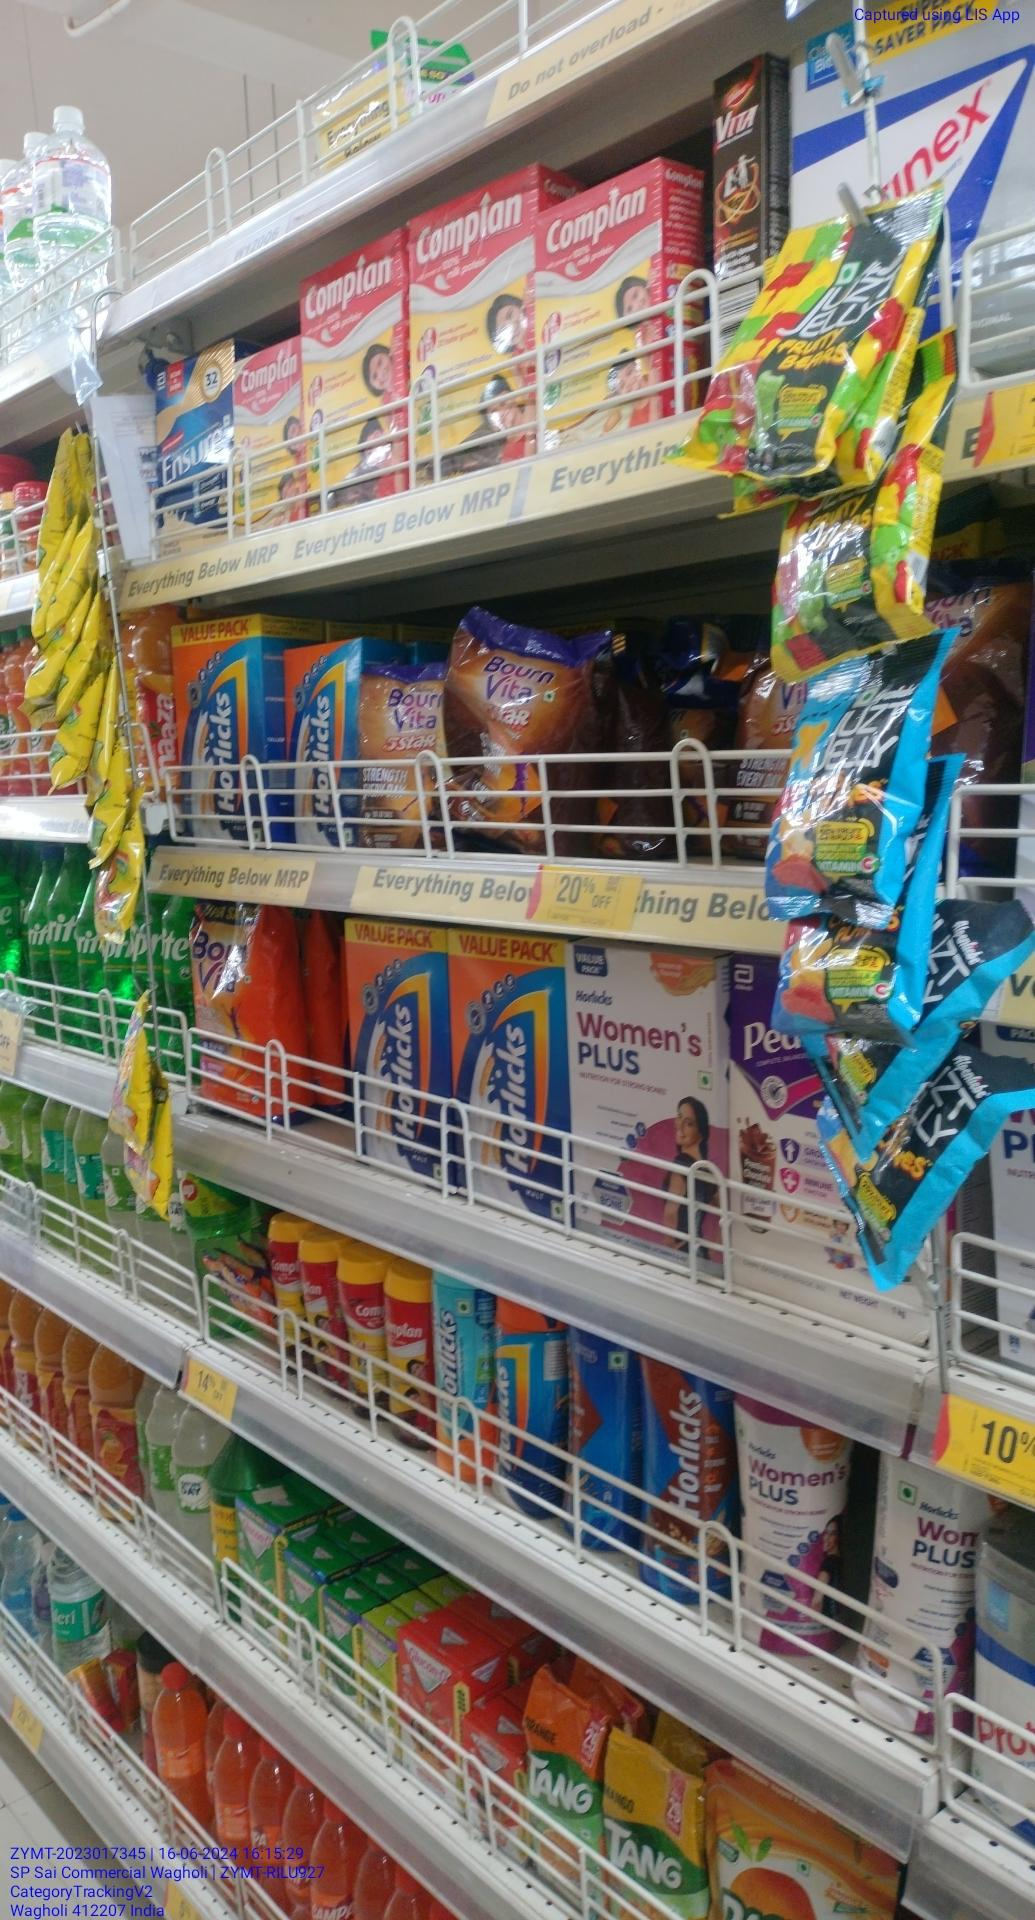COMPLAN_CHOCOLATE_500_GMS_JAR: (386, 1263, 427, 1440), (343, 1245, 382, 1418), (302, 1231, 339, 1389)
HORLICKS_LITE_REGULAR_MALT_500_GM_JAR: (430, 1274, 493, 1474)
